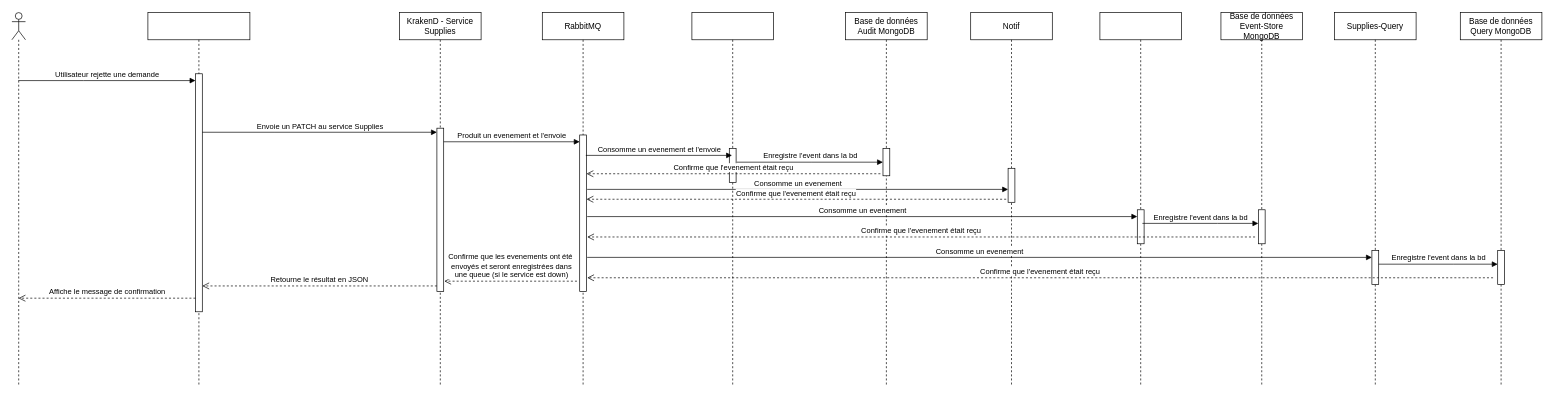
Image size: 1554x398. Some labels were removed from this diagram. Here are the shapes that lost their labels. From the top down, the box of each, then its label:
(147, 12, 250, 387): Frontend Django Python
(691, 12, 774, 387): Audit
(1099, 12, 1182, 387): Supplies-Event-Store
